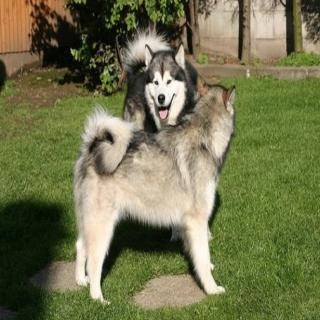dog: (141, 42, 194, 133)
nose: (157, 91, 166, 105)
